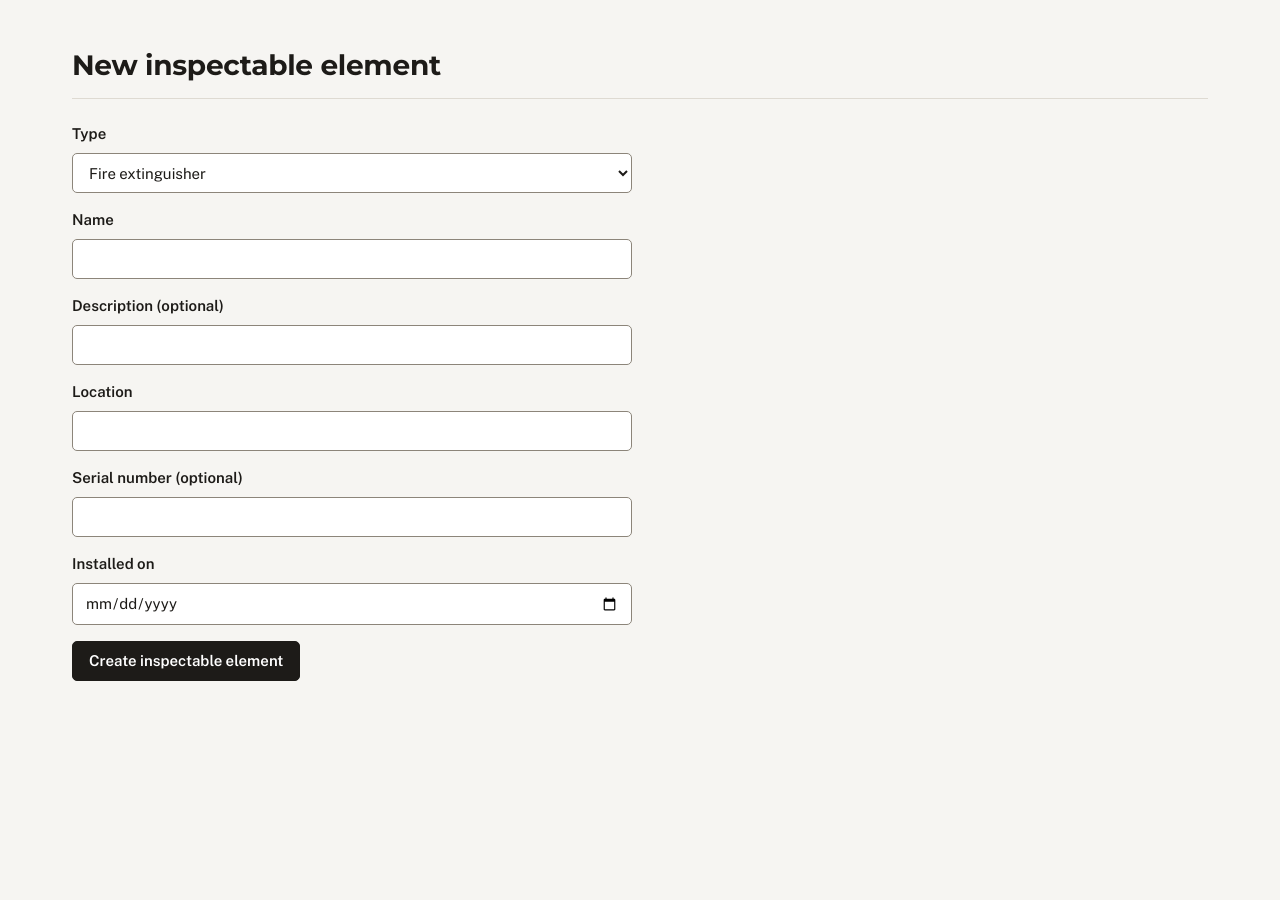
it: InspectableElementCreatePage › shows a mapped error message (not English server prose) for a generic failure
The image size is (1280, 900).
Type "Lobby extinguisher" into the field with test id "inspectable-element-create-name" at (352, 259), box [72,239,632,279]
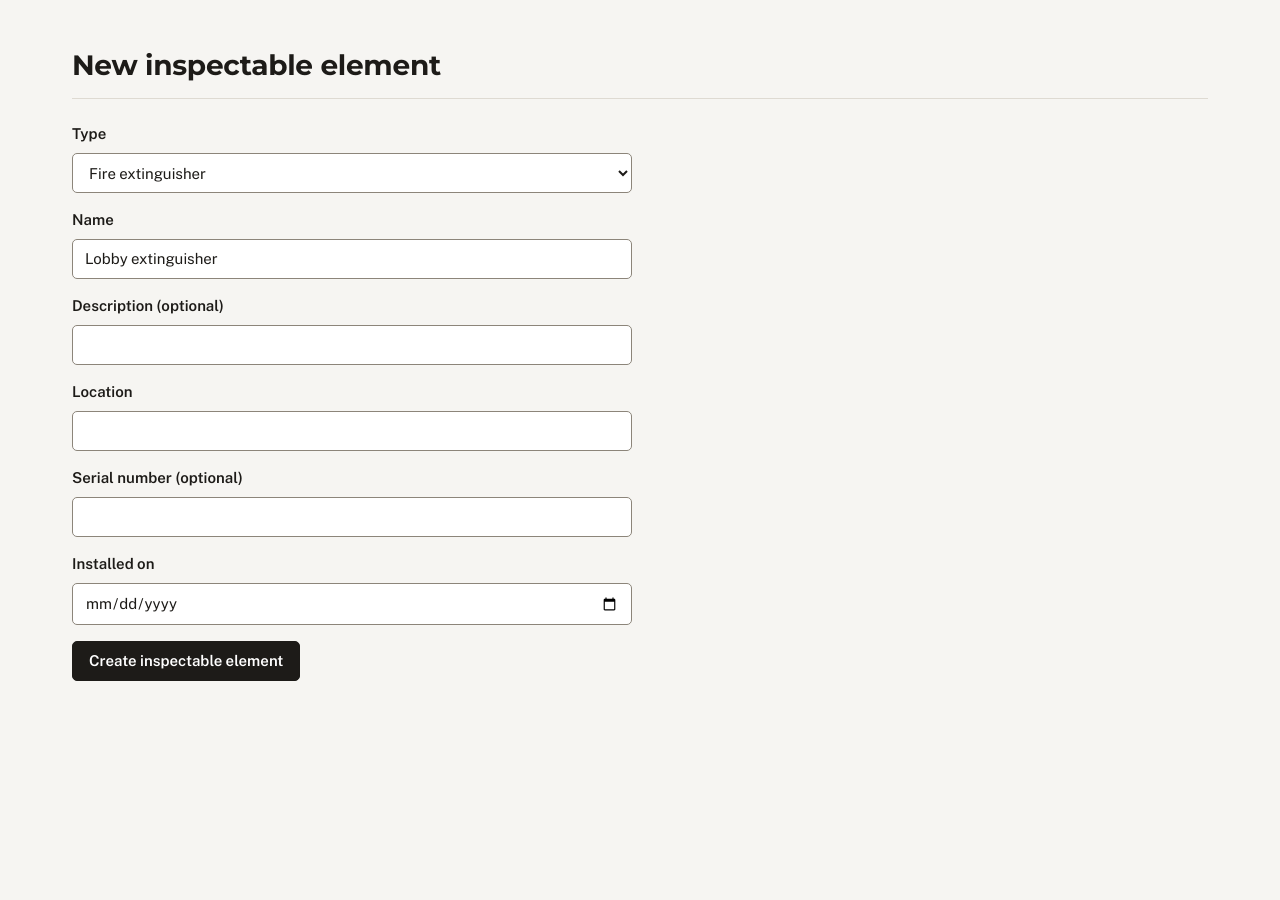
Type "Ground-floor corridor" into the field with test id "inspectable-element-create-location" at (352, 431), box [72,411,632,451]
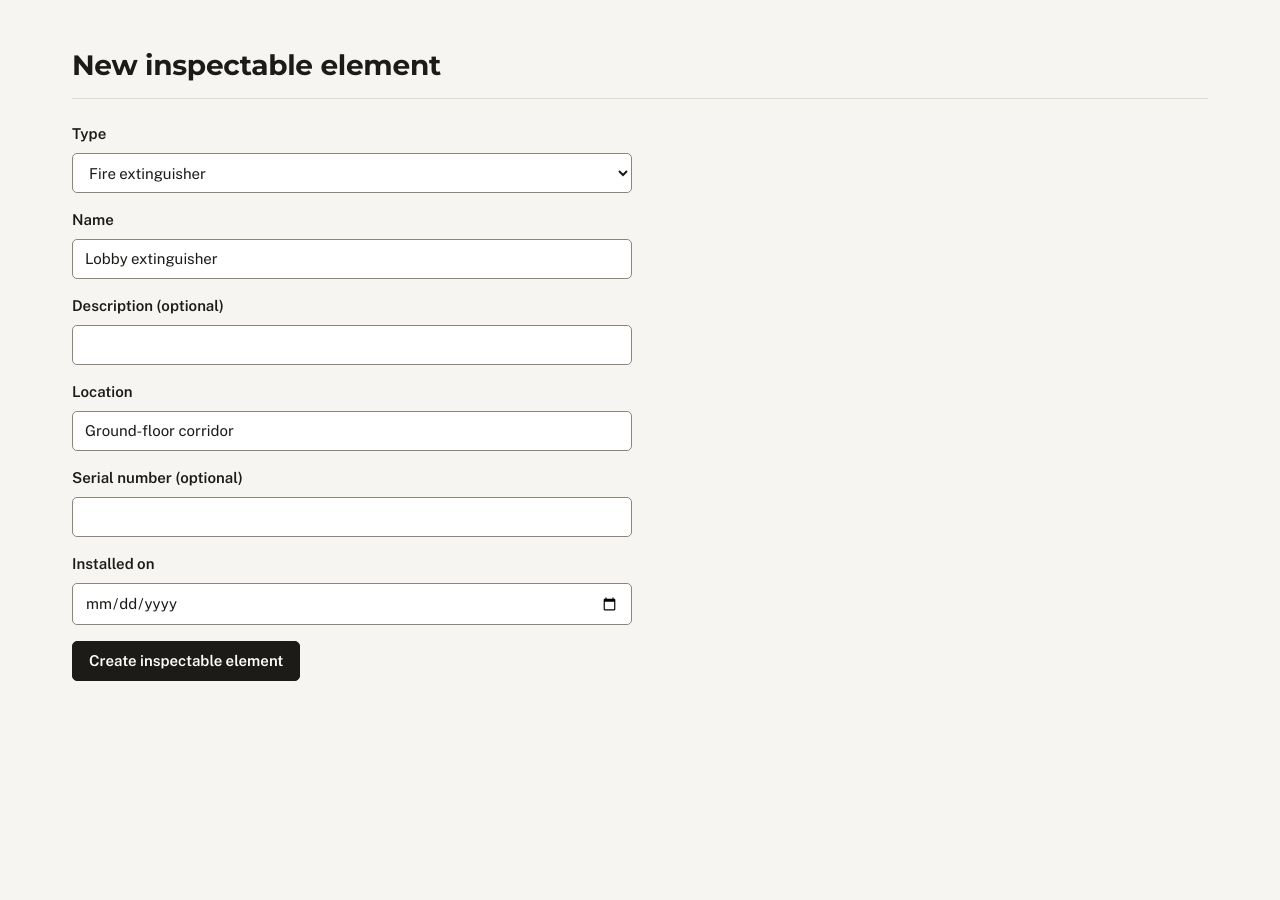
Type "2026-03-15" into the date field with test id "inspectable-element-create-installed-at" at (352, 604), box [72,583,632,625]
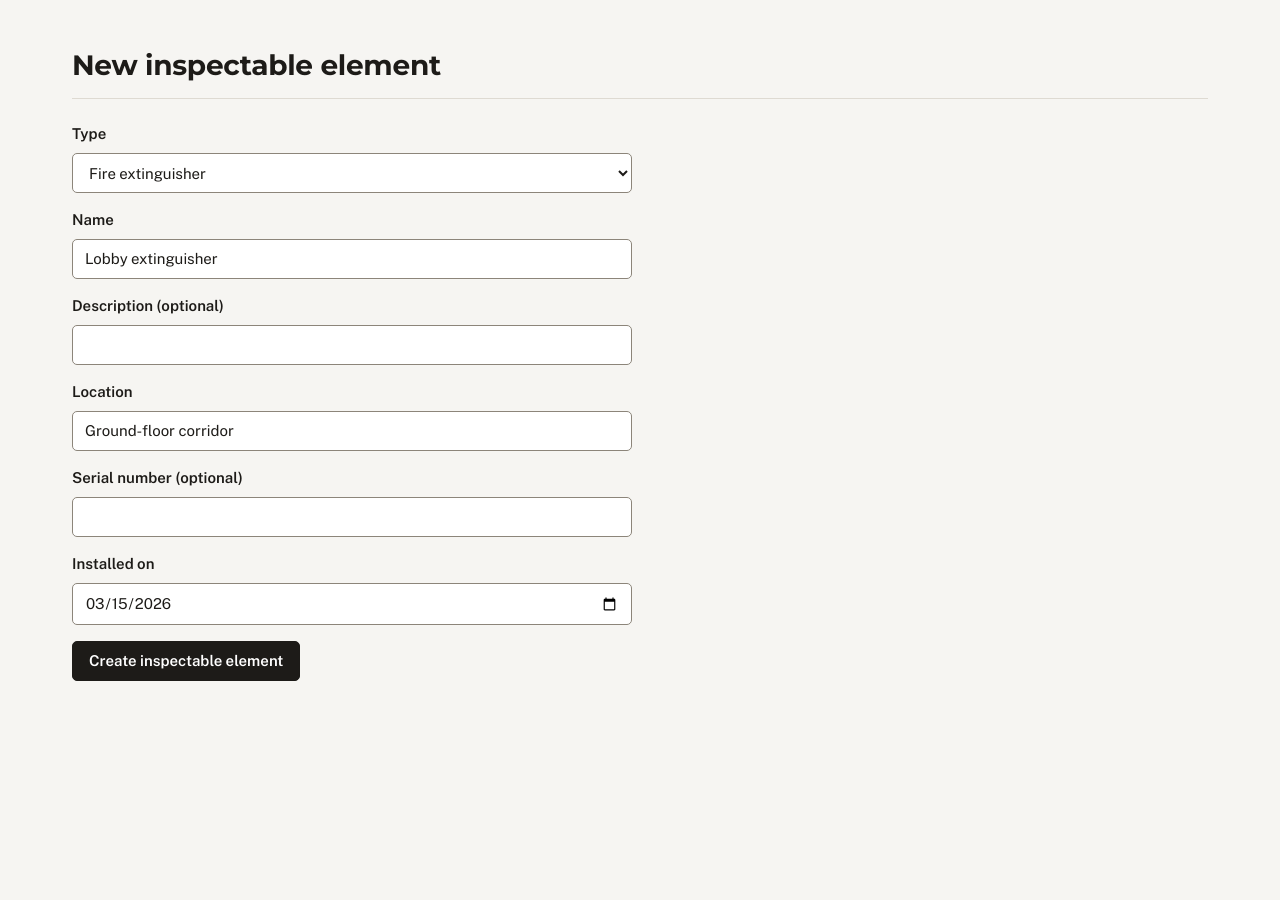
Click the button with test id "inspectable-element-create-submit" at (186, 661), box [72,641,300,681]
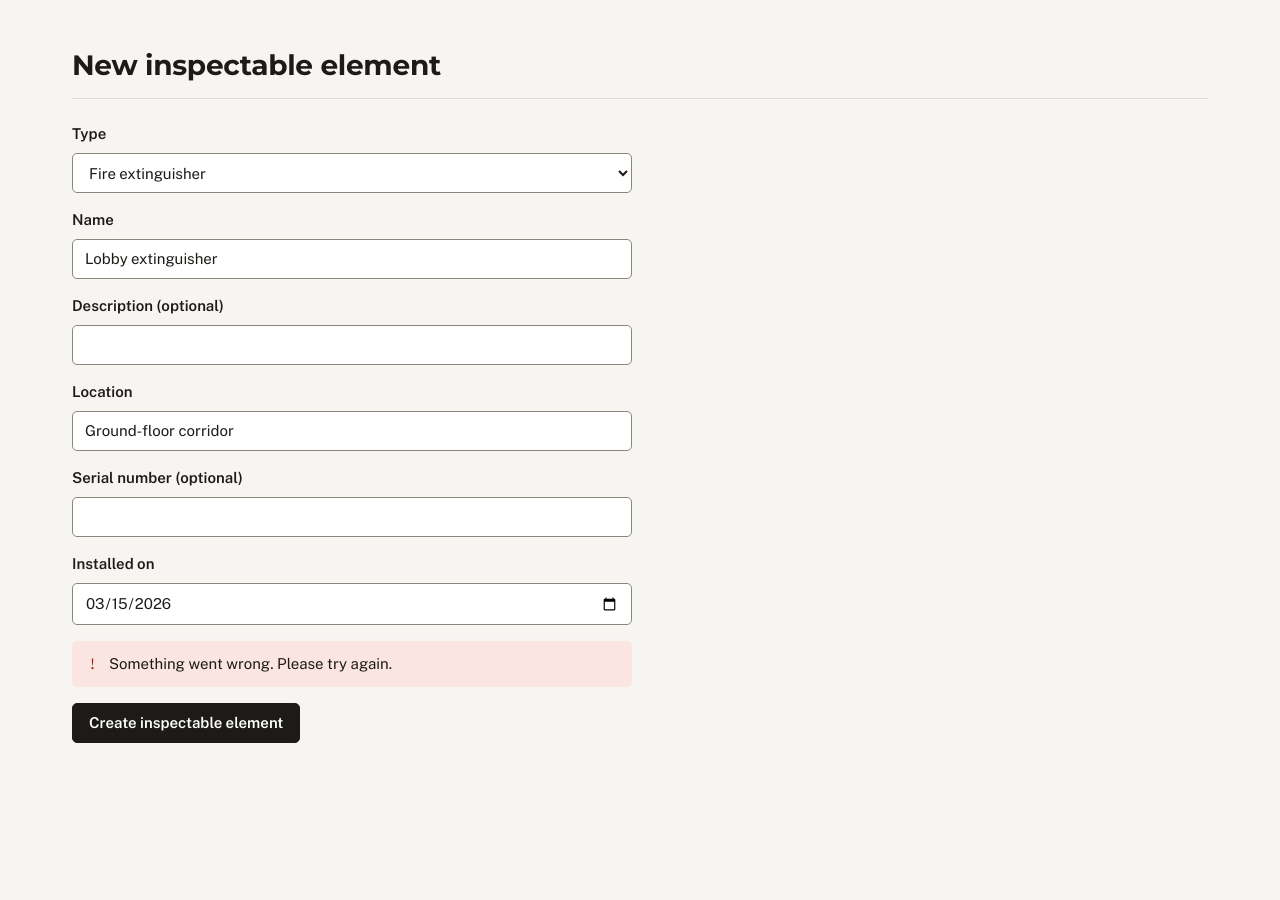
Now the message "! Something went wrong. Please try again." is shown, box [72,641,632,687]
